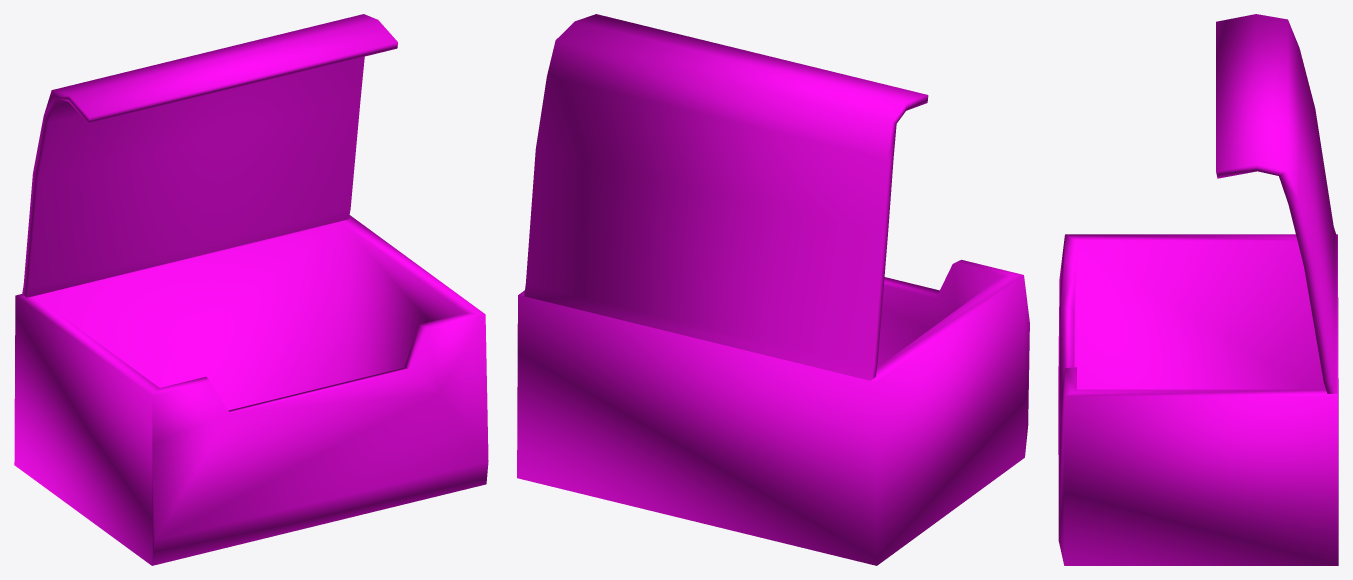
Rendered from box_small_open_meshCollider.fbx.
The picture shows the model from 3 angles, left to right: view 1: azimuth 30°, elevation 25°; view 2: azimuth 150°, elevation 25°; view 3: azimuth 270°, elevation 25°; orthographic projection. The views are drawn at different scales.
Parts seen in each view (by area): view 1: foods_package_box_cardboard_small_1_open_meshCollider; view 2: foods_package_box_cardboard_small_1_open_meshCollider; view 3: foods_package_box_cardboard_small_1_open_meshCollider.
Part boxes in pixels (x1,y1,x2,y2): foods_package_box_cardboard_small_1_open_meshCollider: [14, 14, 488, 565]; foods_package_box_cardboard_small_1_open_meshCollider: [517, 14, 1029, 565]; foods_package_box_cardboard_small_1_open_meshCollider: [1058, 14, 1338, 565].
Size of the model in its own units: 19.82 by 22.49 by 14.33.
